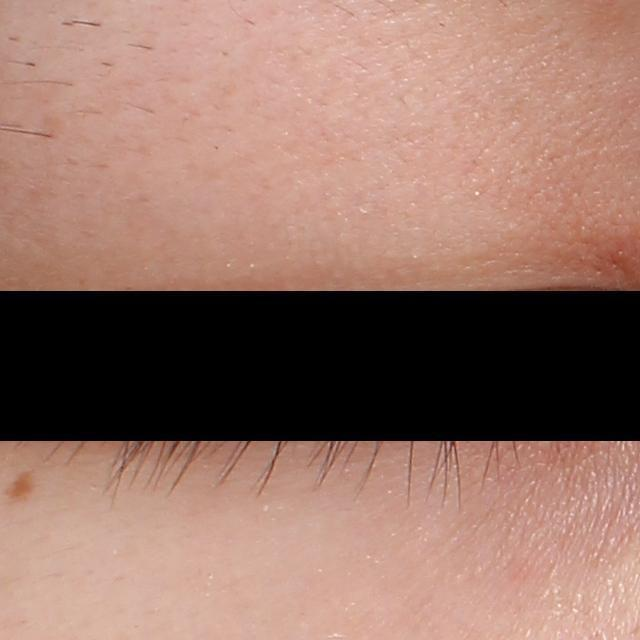melasma: (4, 465, 39, 504)
